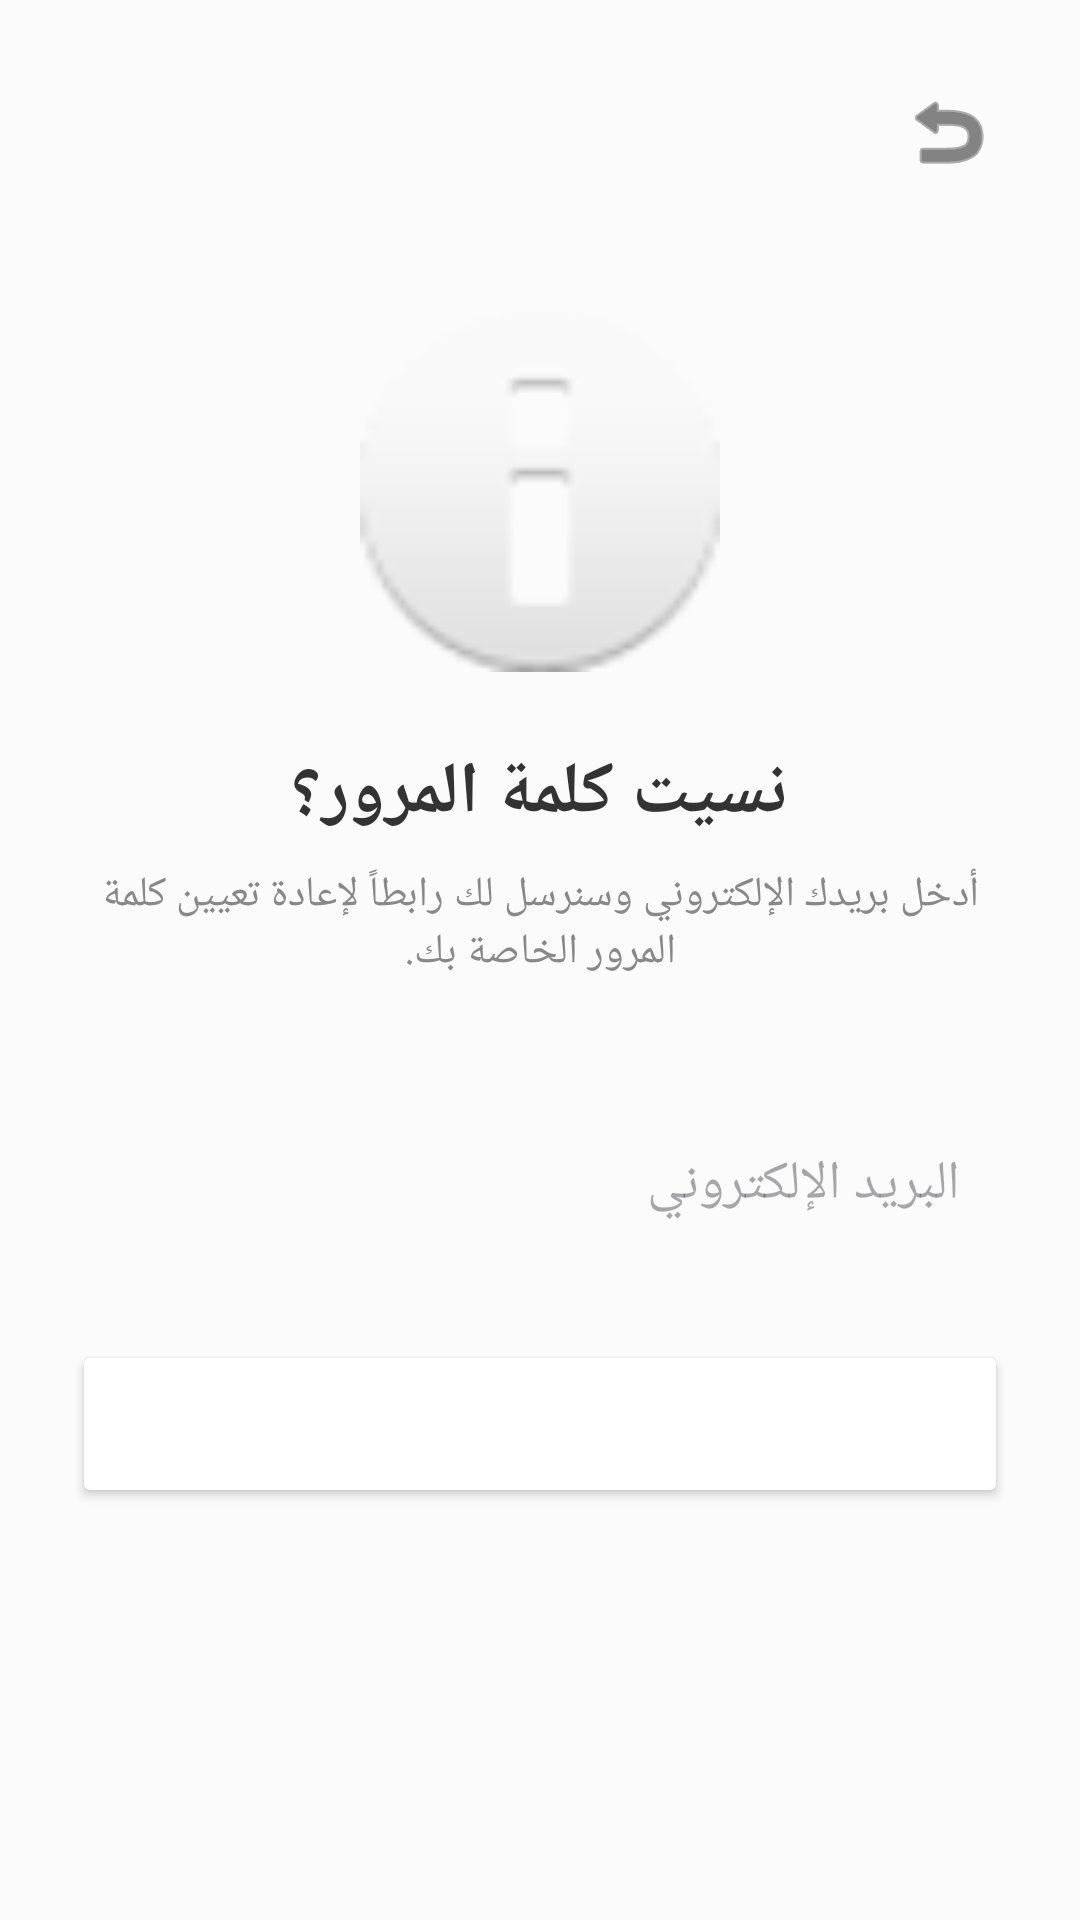

Icon bounding boxes for this 1080w x 1920h phone screenshot, format (x1, y1, x2, y2):
info: (360, 378, 720, 672)
revert: (915, 101, 984, 164)
